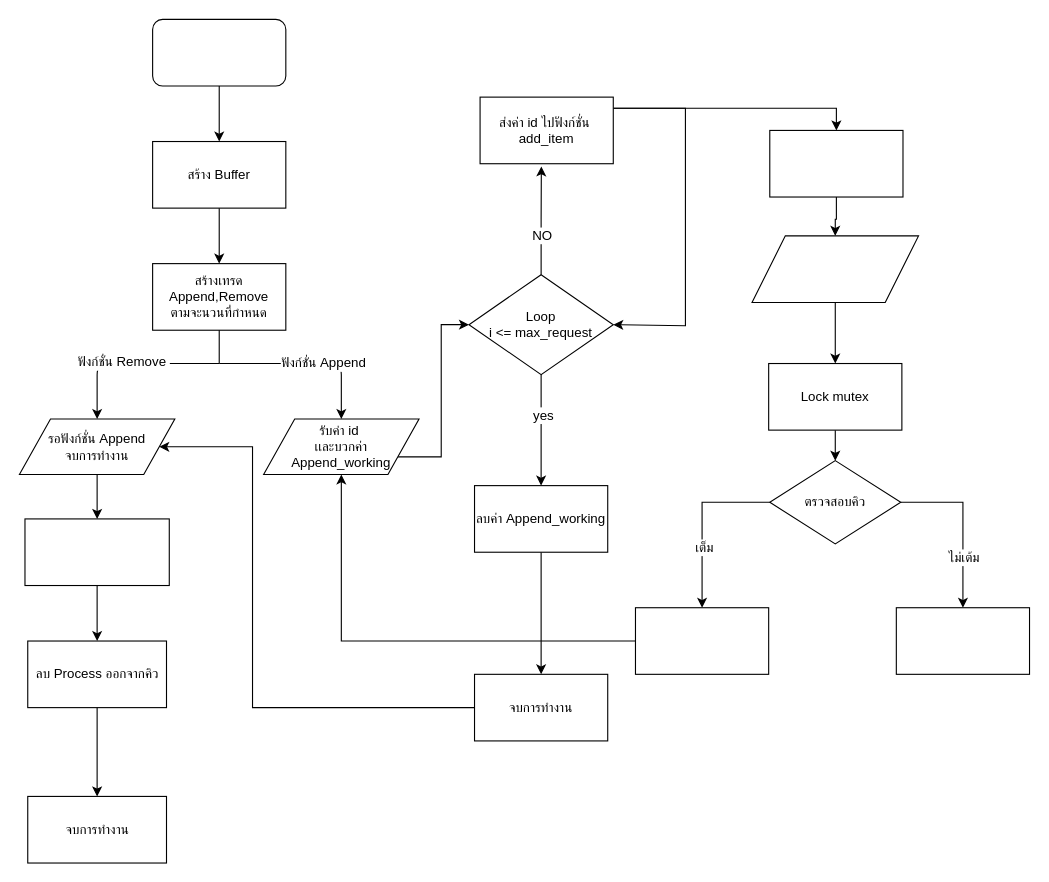
Some shapes in this 1049 by 882 pixel diagram are drawn without their labels. The box of each missing label's shape, as (x1, y1, x2, y2) in pixels:
รับค่า Append_id จากฟังก์ชั่น Append: (751, 235, 919, 302)
เพิ่มค่าลงไปในคิว: (895, 607, 1030, 674)
เริ่ม: (152, 18, 286, 86)
เรียกฟังก์ชั่น Add_item: (769, 129, 903, 197)
เรียกเทรดใหม่: (634, 607, 769, 674)
ไม่มีการทำงานของ append เเละคิวไม่ว่าง: (24, 518, 169, 586)
